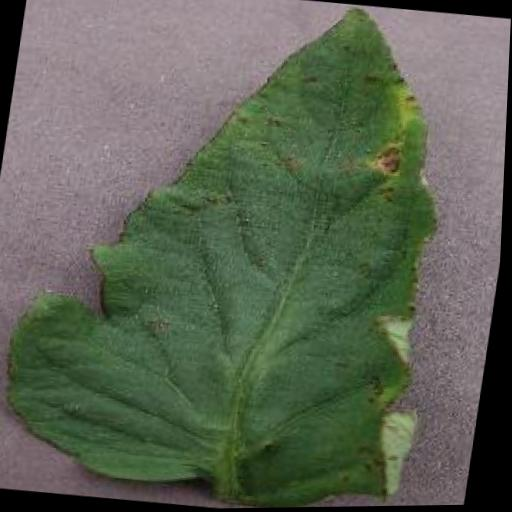Bacterial Spot: (0, 0, 482, 512)
